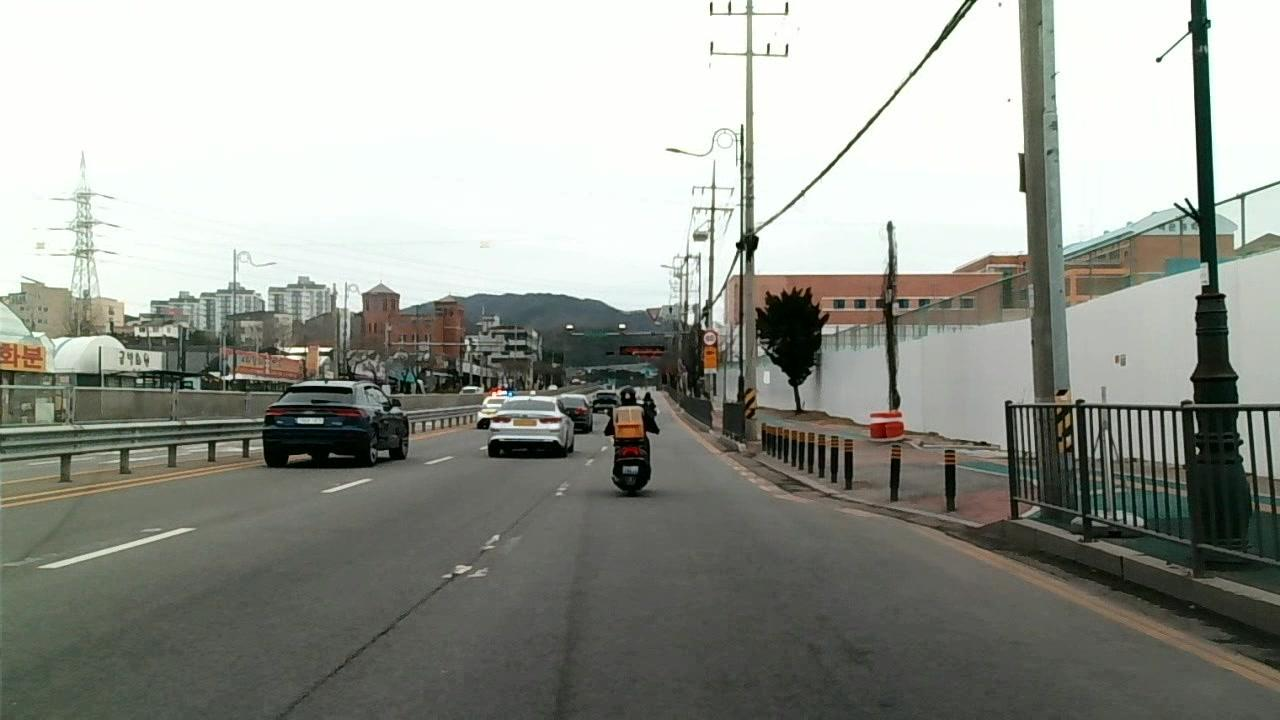vcrack: (281, 623, 389, 720), (394, 554, 479, 618)
